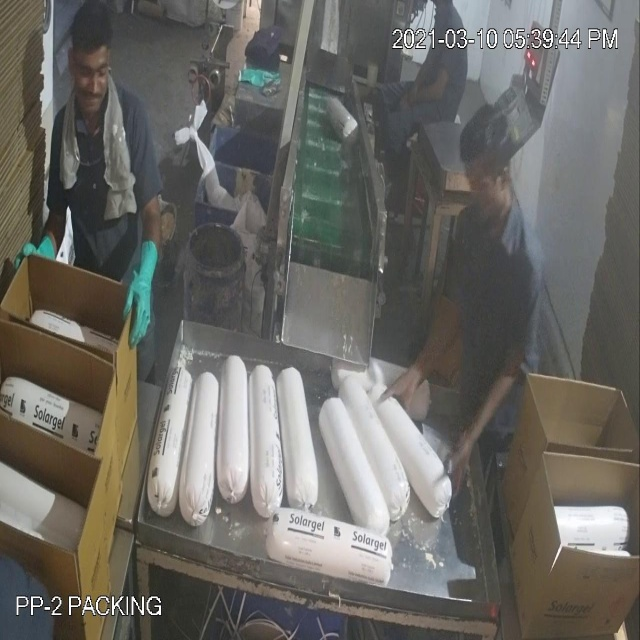Guantes: (121, 234, 164, 361)
Sin_guantes: (436, 340, 541, 505), (373, 291, 466, 419)
